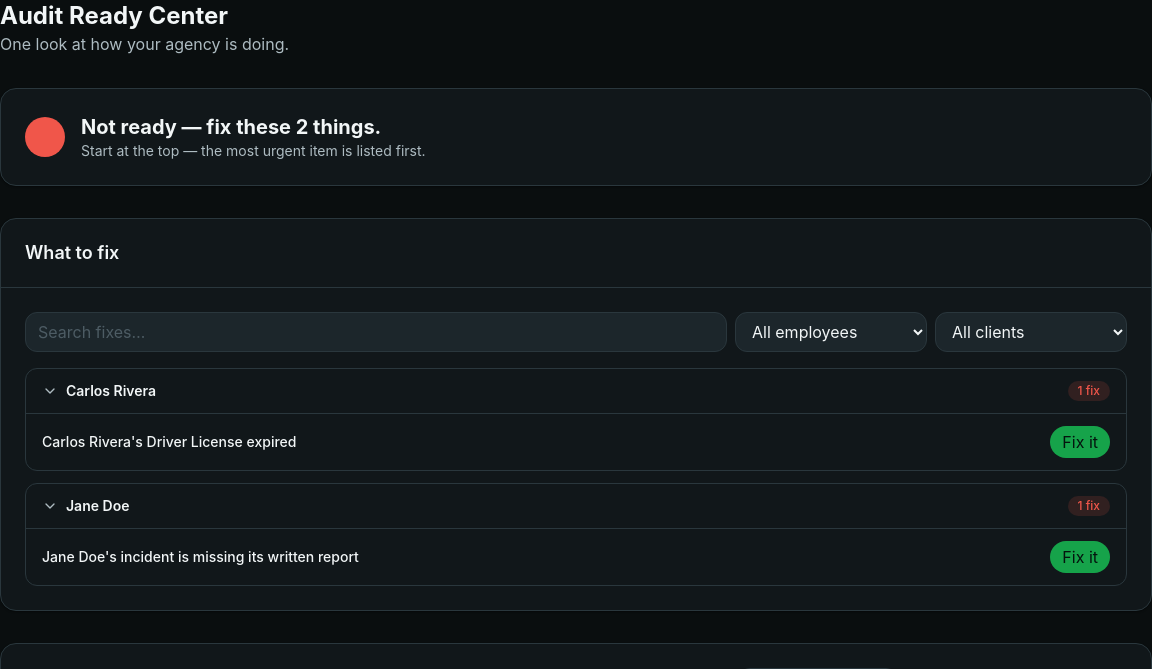
it: AuditReadinessPage — simple view (default) › filters fixes by search text and by client
This screenshot has width=1152, height=669.
Expected: the text "Carlos Rivera's Driver License expired" is shown, [42,432,296,452]
Expected: the text "Jane Doe's incident is missing its written report" is shown, [42,547,359,567]
In the field labelled "Search fixes": (376, 332) [25,312,727,352], type "carlos"
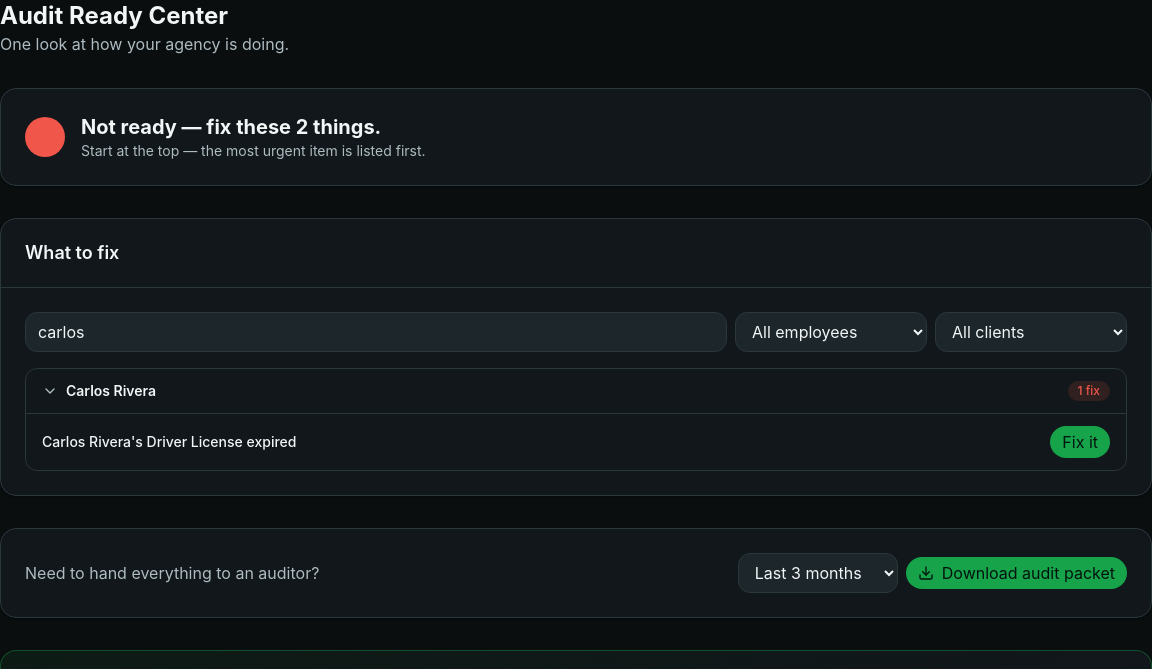
Expected: the text "Carlos Rivera's Driver License expired" is shown, [42,432,296,452]
Expected: the text "Jane Doe's incident is missing its written report" is gone
Clear the field named "Search fixes": (376, 332) [25,312,727,352]
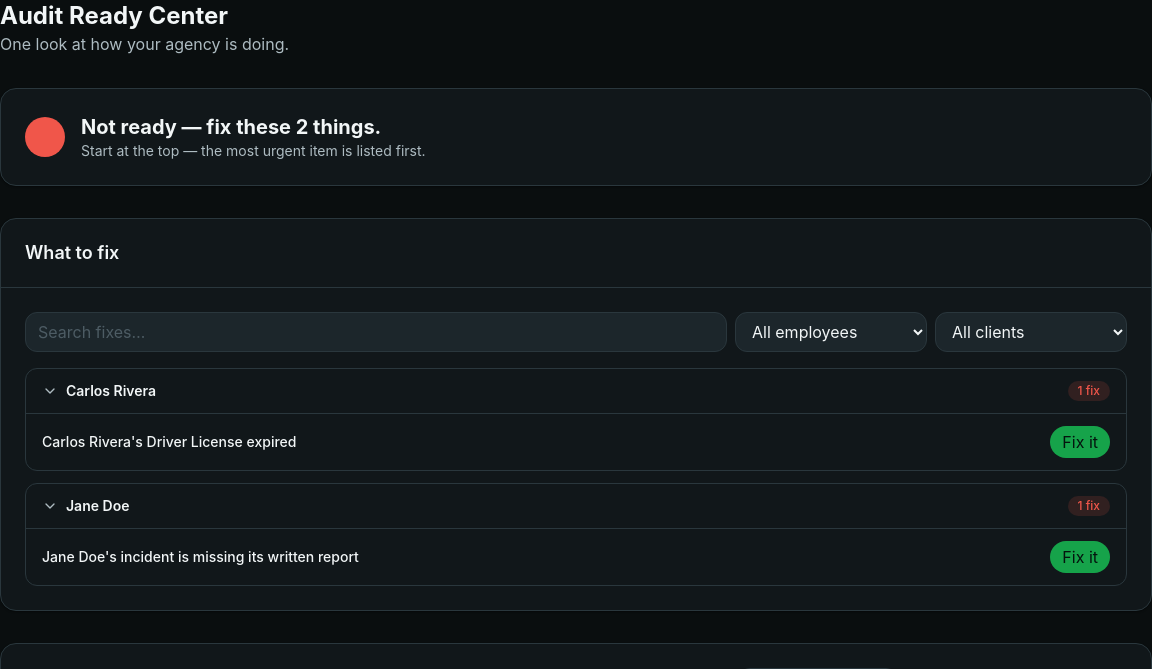
Select "Jane Doe" in the dropdown named "Filter by client": (1031, 332) [935,312,1127,352]
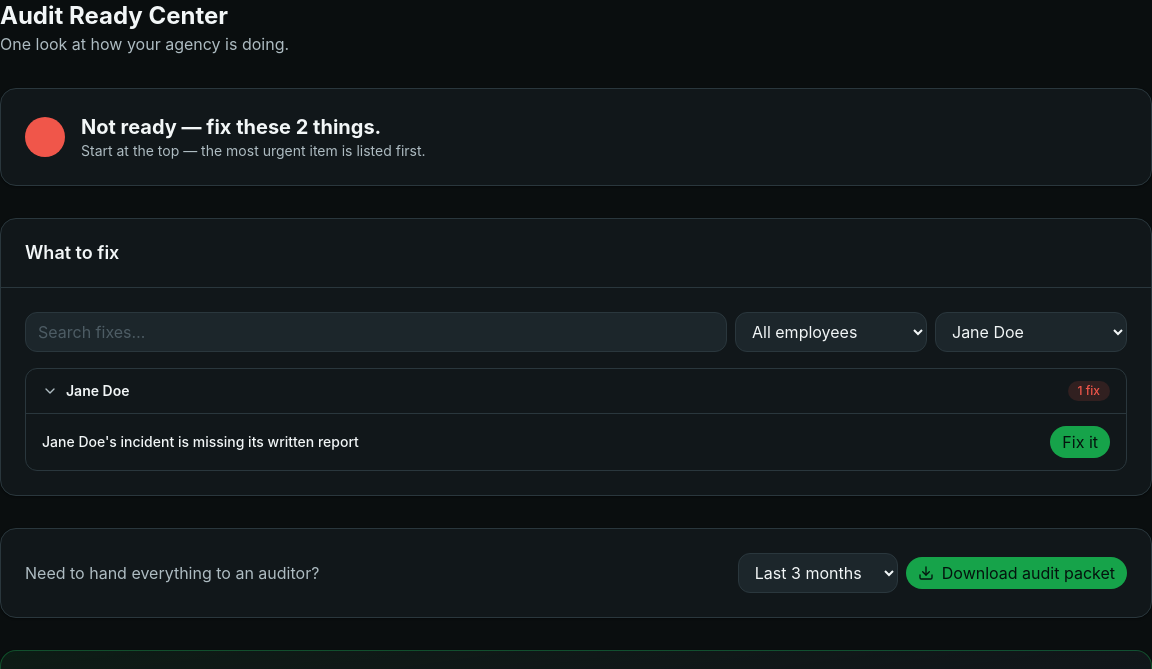
Expected: the text "Jane Doe's incident is missing its written report" is shown, [42,432,359,452]
Expected: the text "Carlos Rivera's Driver License expired" is gone
